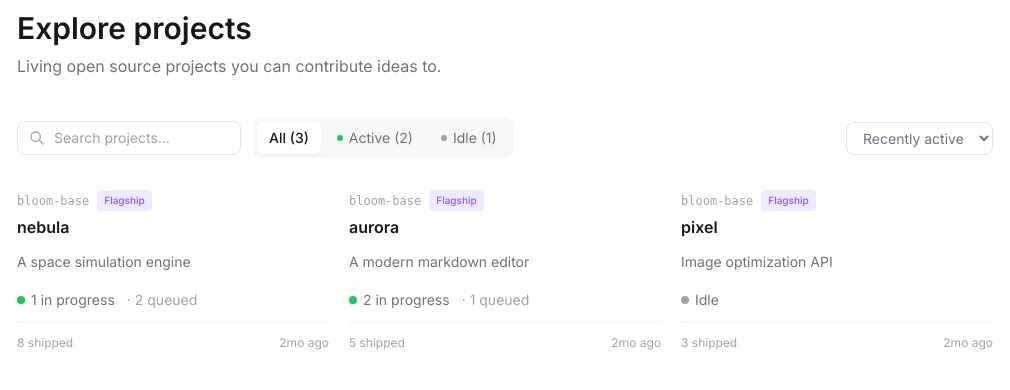
Test case: ExplorePage › Search › shows no match message and clear search button
Expected: the text "aurora" is shown, [349,217,399,237]
Type "nonexistent" into the field with placeholder "Search projects..." at point(129, 138), box [17,121,241,155]
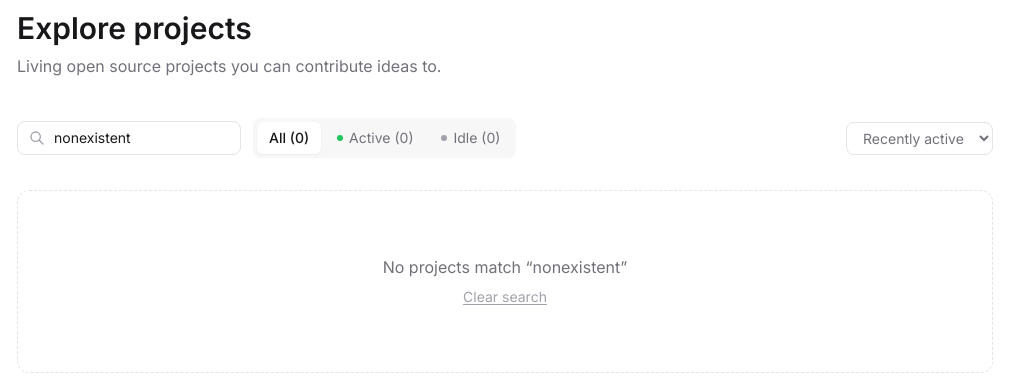
Now the text "No projects match “nonexistent”" is shown, box [383,257,627,277]
Now the button "Clear search" is shown, box [463,287,547,307]
